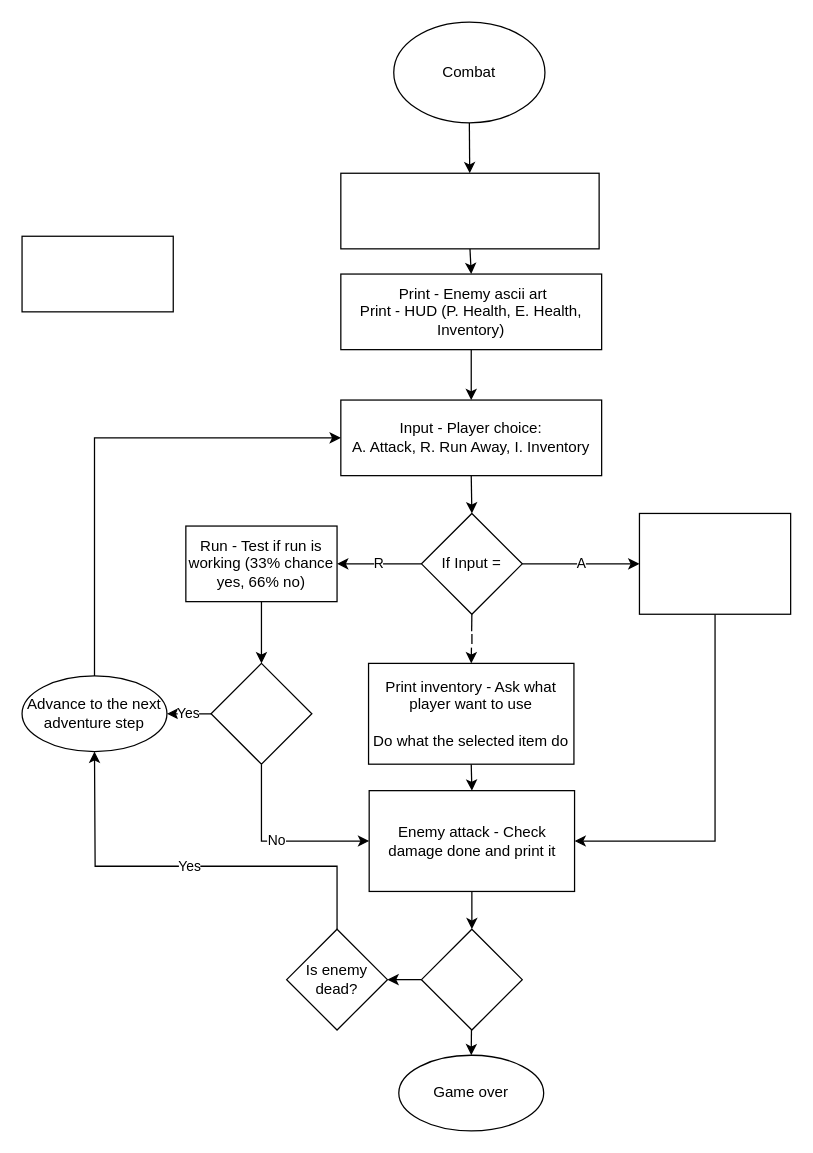
Some shapes in this 813 by 1153 pixel diagram are drawn without their labels. Each missing label, with the box of its shape:
Clear display: (21, 235, 173, 312)
Is played dead?: (420, 928, 522, 1030)
Player attack - Check damage done and print it: (638, 512, 791, 614)
Print - Intro text: (340, 172, 599, 249)
Run away?: (210, 662, 312, 764)
